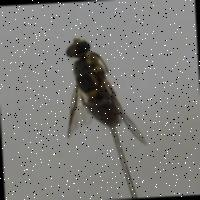Oriental-fruit-fly: (56, 31, 154, 154)
